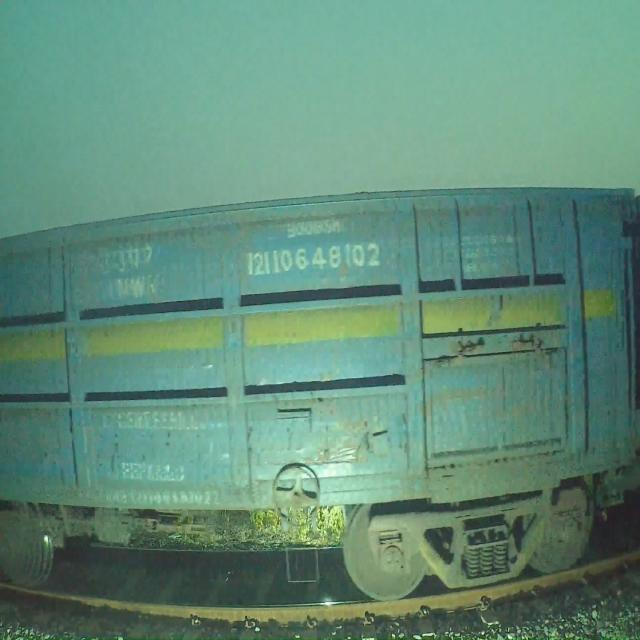WAgon-uic: (0, 178, 640, 606)
uic: (242, 238, 384, 284)
